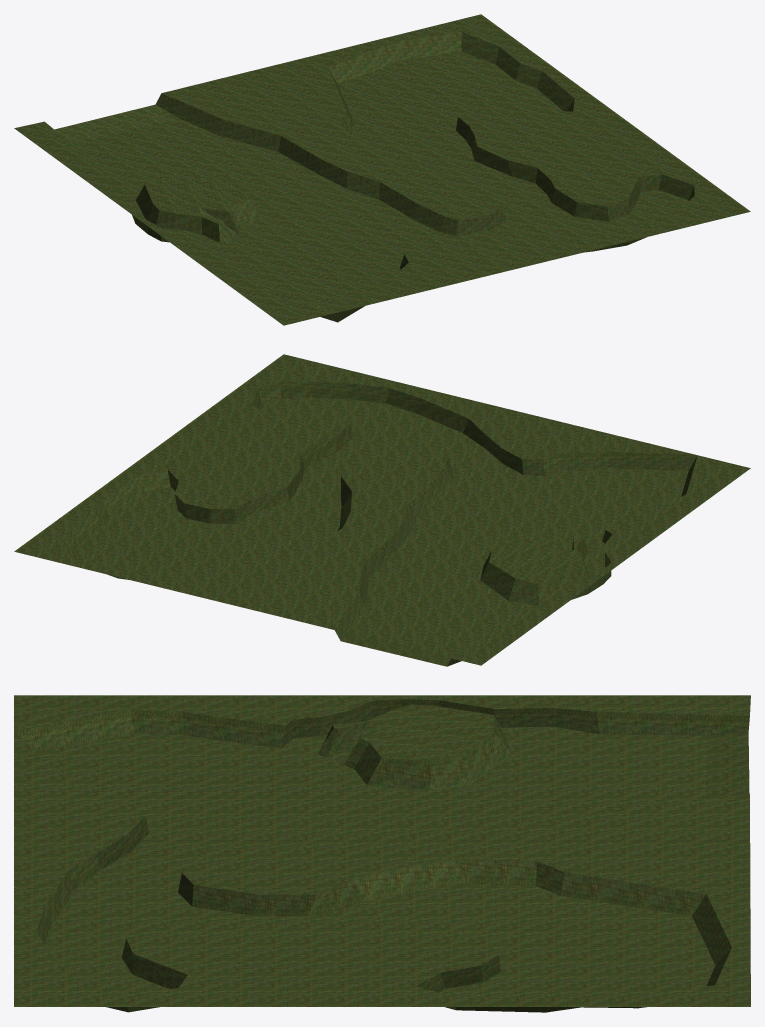
Rendered from level_poc.glb.
The picture shows the model from 3 angles, top to bottom: view 1: azimuth 30°, elevation 25°; view 2: azimuth 150°, elevation 25°; view 3: azimuth 270°, elevation 25°; orthographic projection. The views are drawn at different scales.
Parts seen in each view (by area): view 1: Plane; view 2: Plane; view 3: Plane.
Part boxes in pixels (x1=…): Plane: x1=14, y1=14, x2=750, y2=325; Plane: x1=14, y1=354, x2=750, y2=666; Plane: x1=14, y1=695, x2=750, y2=1012.
Size of the model in its own units: 63.34 by 2.35 by 63.34.
Materials: 1 (1 with a texture image).
